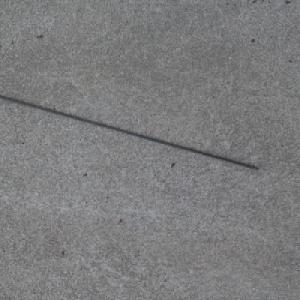LuggagePart: (0, 95, 260, 171)
